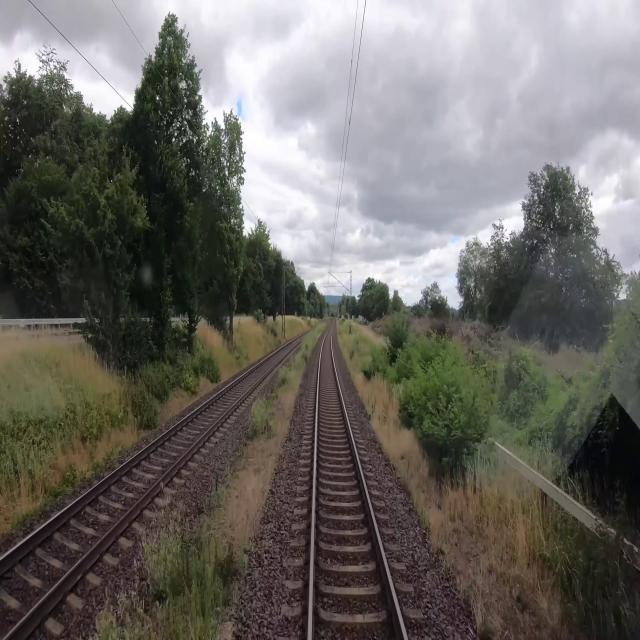Plant: (87, 321, 328, 639)
